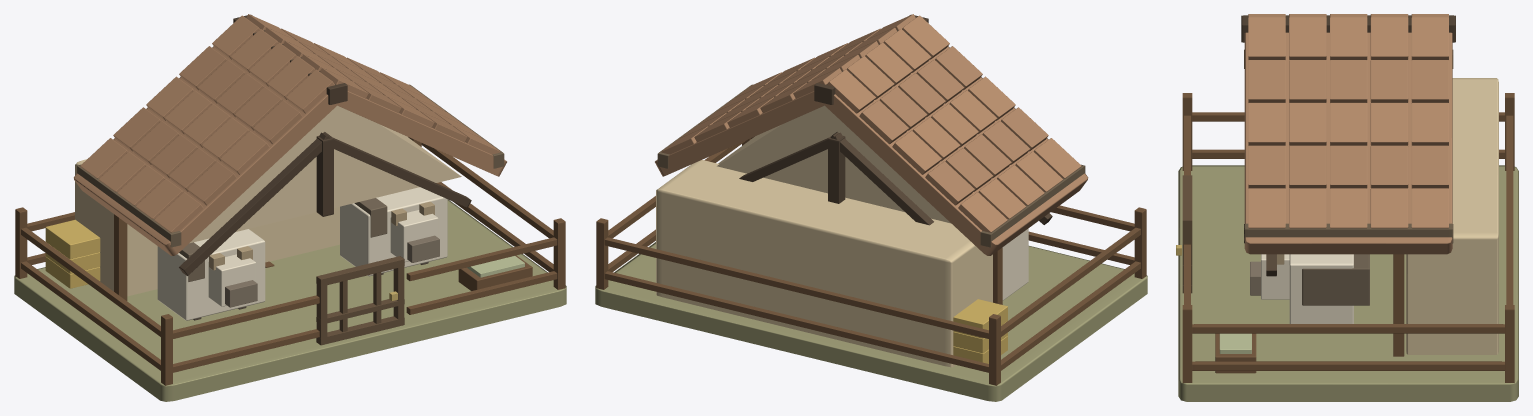
The model's file is cowshed-3.glb.
3 renders of one model, left to right at view 1: azimuth 30°, elevation 25°; view 2: azimuth 150°, elevation 25°; view 3: azimuth 270°, elevation 25°, orthographic. The views are drawn at different scales.
Parts seen in each view (by area): view 1: cowshed-3-0, cow-1, cow-0, door-hinge; view 2: cowshed-3-0, cow-0; view 3: cowshed-3-0, cow-1, door-hinge.
Part boxes in pixels (x1,y1,x2,y2): cowshed-3-0: (14, 14, 566, 401); cow-1: (340, 187, 447, 276); cow-0: (157, 229, 265, 320); door-hinge: (316, 256, 404, 345); cowshed-3-0: (595, 14, 1147, 401); cow-0: (1002, 228, 1028, 300); cowshed-3-0: (1178, 14, 1518, 401); cow-1: (1250, 254, 1369, 323); door-hinge: (1176, 175, 1192, 293).
Size of the model in its own units: 2.9 by 1.71 by 1.91.
